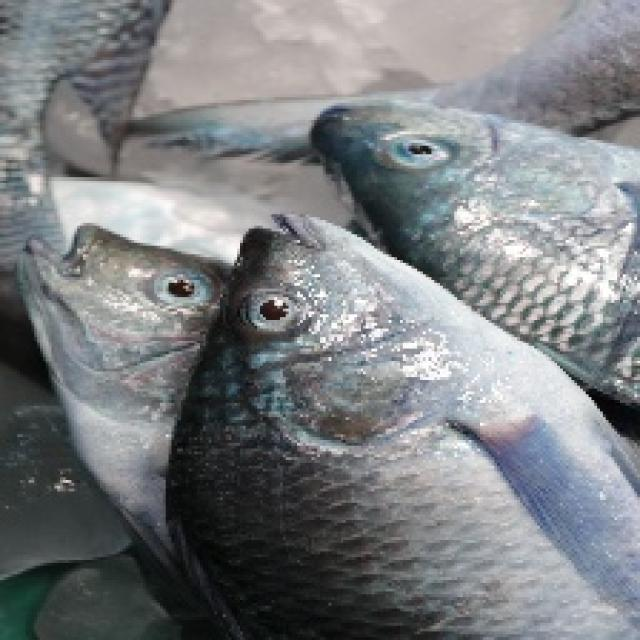Fresh: (182, 208, 631, 640), (300, 65, 640, 362), (23, 212, 268, 502)
